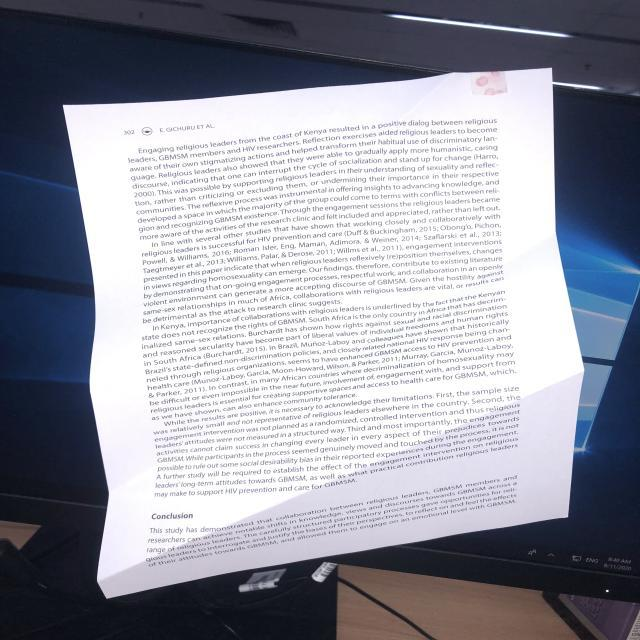kertas: (59, 65, 599, 598)
